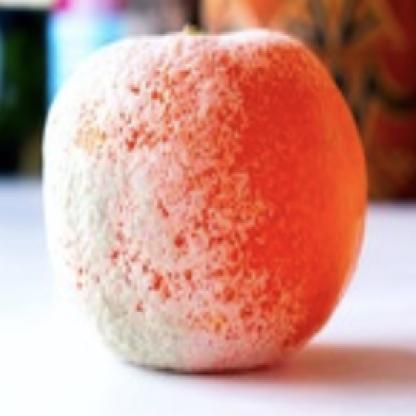rotten: (44, 27, 368, 376)
